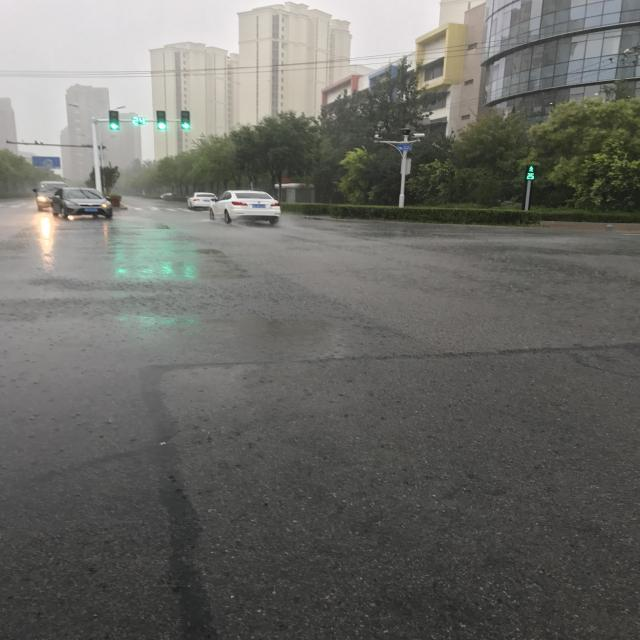car: (190, 356, 225, 428), (188, 526, 219, 586), (180, 574, 212, 608), (191, 419, 213, 452)
